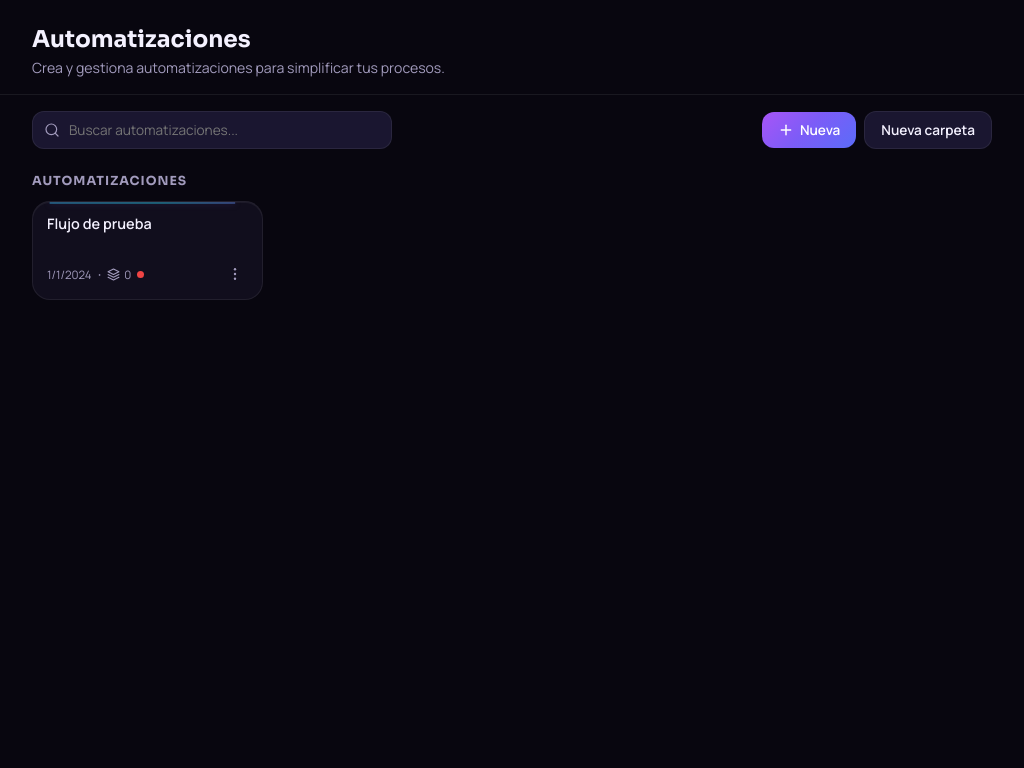
Test case: AutomationsHubPage — carga inicial vs revalidación › la revalidación NO muestra 'Cargando automatizaciones...' ni desmonta la lista
This screenshot has width=1024, height=768.
Expected: the text "Flujo de prueba" is shown, [47,214,152,234]
Click the button "Nueva carpeta": {"x": 928, "y": 130} [864,111,992,149]
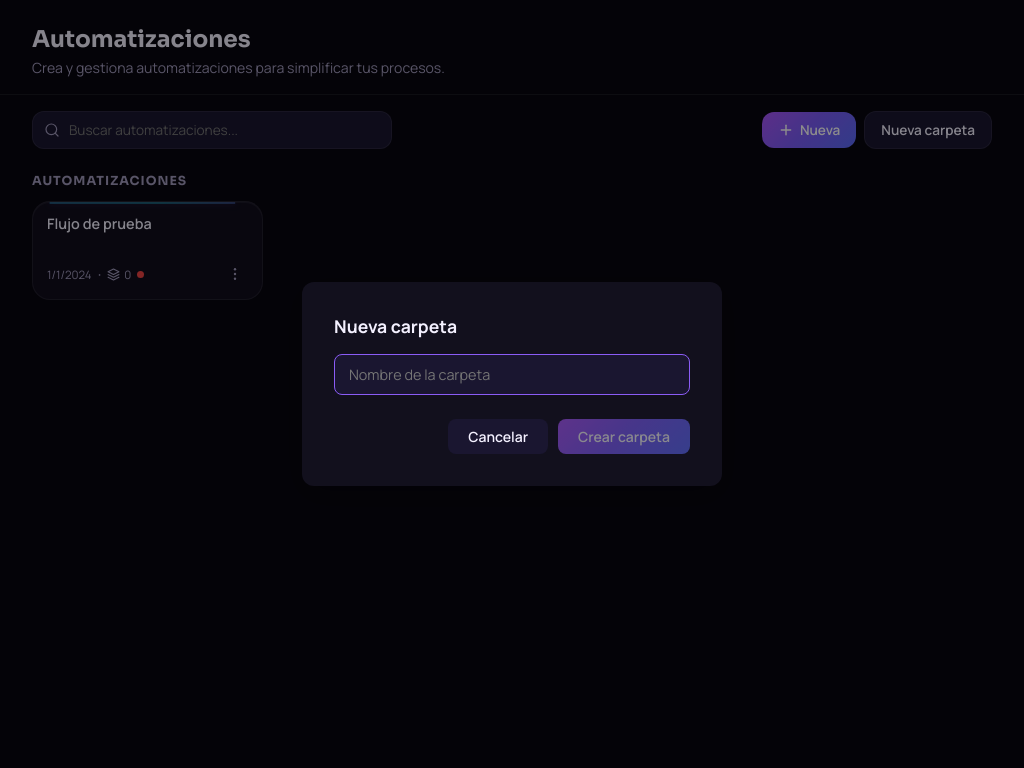
In the field labelled "Nombre de la carpeta": {"x": 512, "y": 374} [334,354,690,395], type "Ventas"
Then press Enter
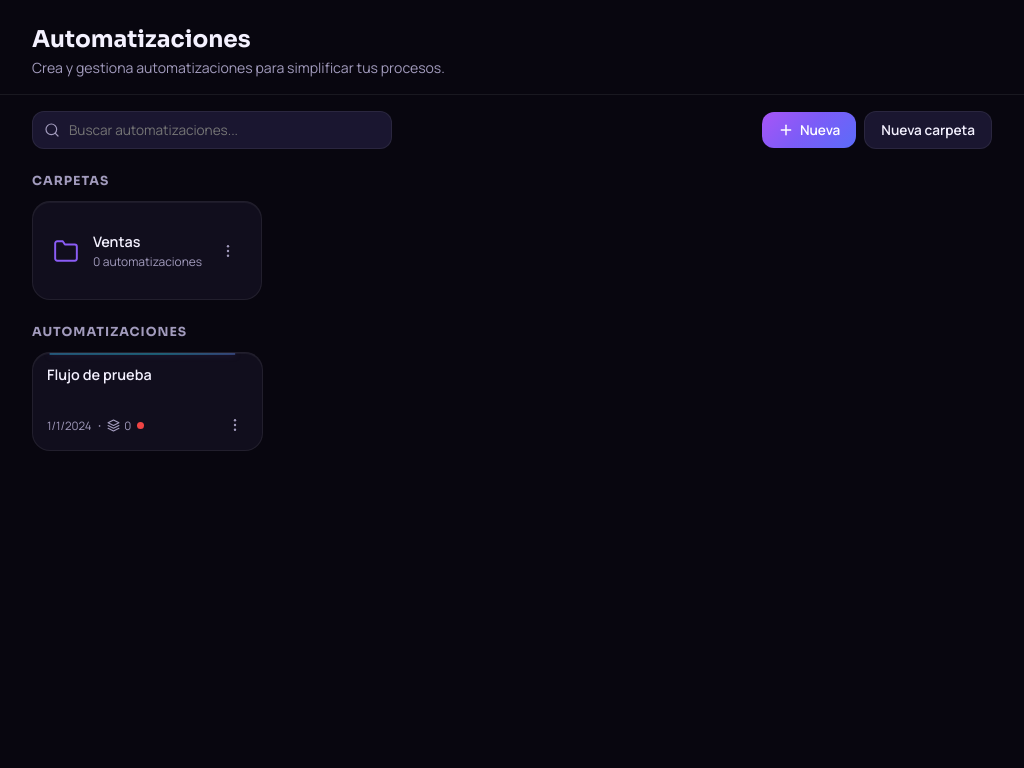
Expected: the text "Flujo de prueba" is shown, [47,365,152,385]
Now the text "Ventas" is shown, box [93,232,140,251]
